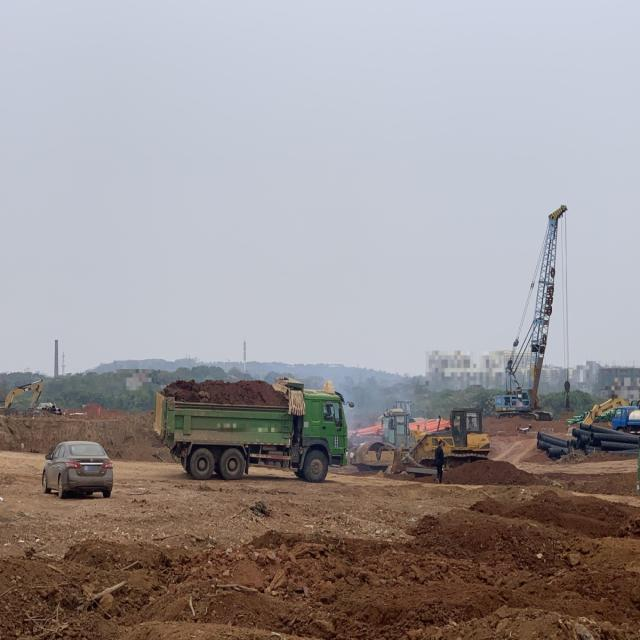crane: (494, 205, 567, 421)
excavator: (0, 378, 43, 417), (583, 398, 640, 425)
machinery: (383, 407, 493, 483)
truck: (153, 376, 354, 482)
